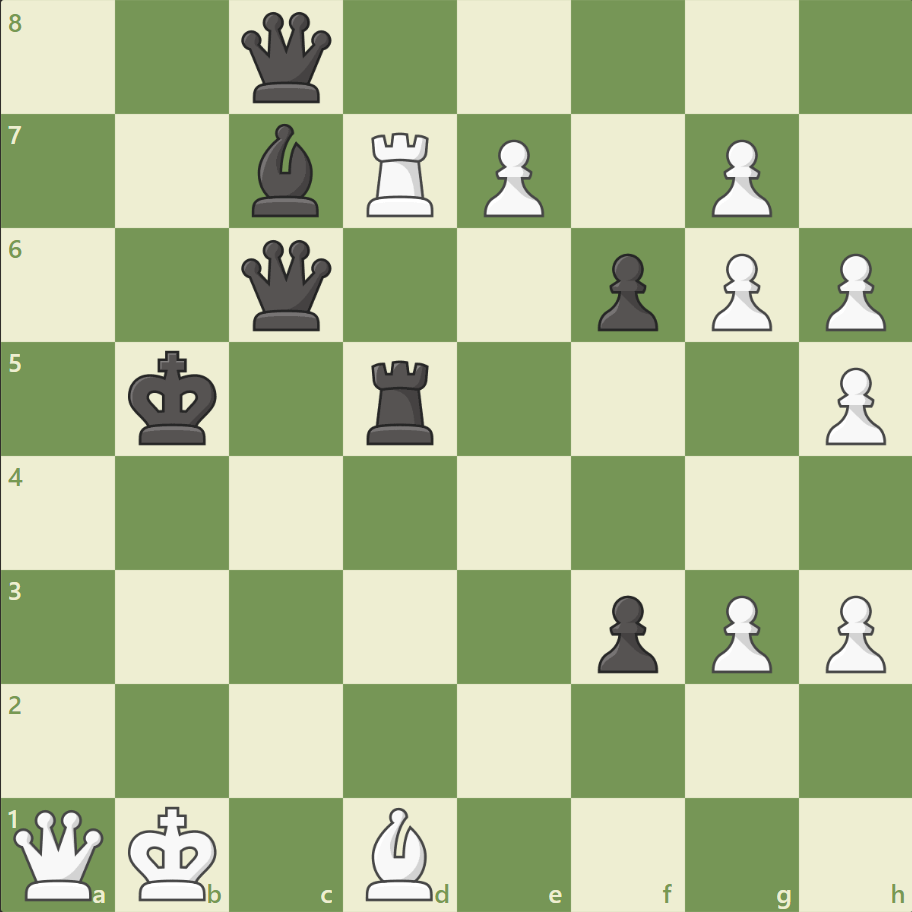B: (358, 801, 442, 904)
K: (124, 798, 224, 906)
P: (474, 132, 549, 223), (701, 132, 776, 223), (701, 246, 776, 337), (701, 586, 776, 677), (815, 246, 889, 337), (815, 359, 889, 450), (815, 586, 889, 677)
Q: (10, 804, 109, 903)
R: (360, 125, 442, 222)
b: (244, 120, 328, 222)
k: (124, 344, 224, 452)
p: (588, 246, 662, 337), (588, 586, 662, 677)
q: (237, 9, 336, 108), (237, 236, 336, 335)
r: (360, 352, 442, 449)
